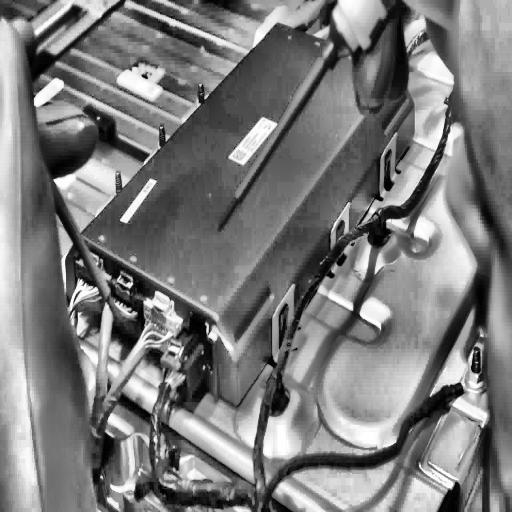bms_unit: (66, 20, 414, 409)
low_volt_cable: (149, 90, 465, 510)
